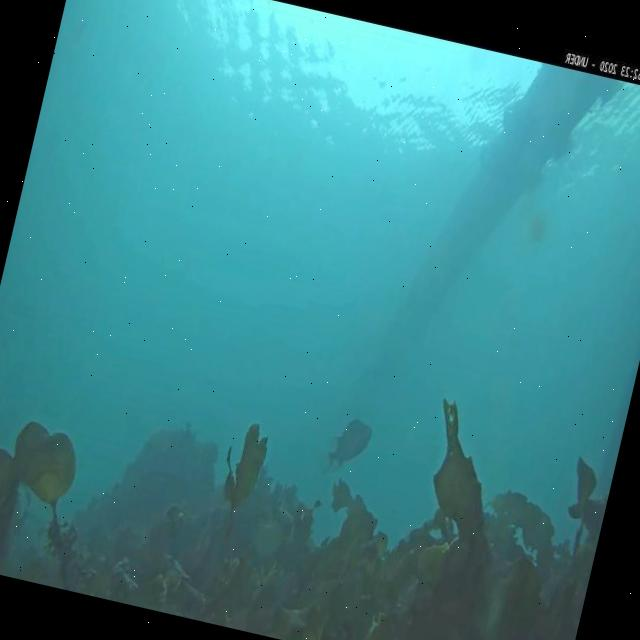fish: (322, 414, 372, 476)
